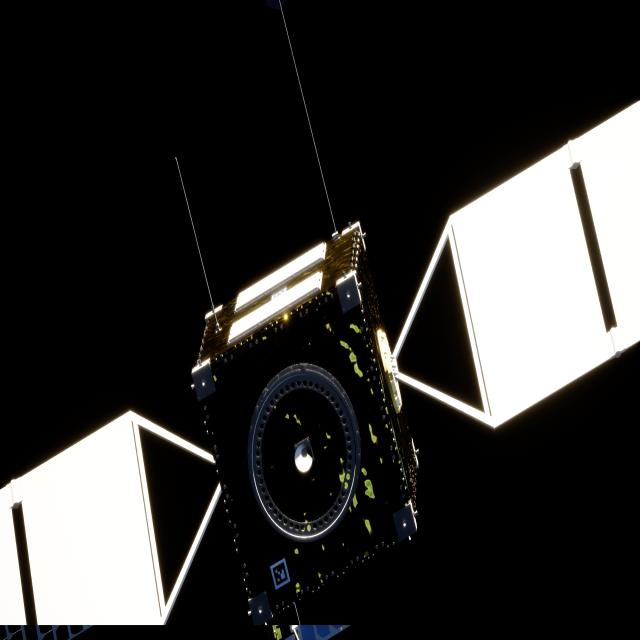medium_debris: (0, 101, 640, 640)
